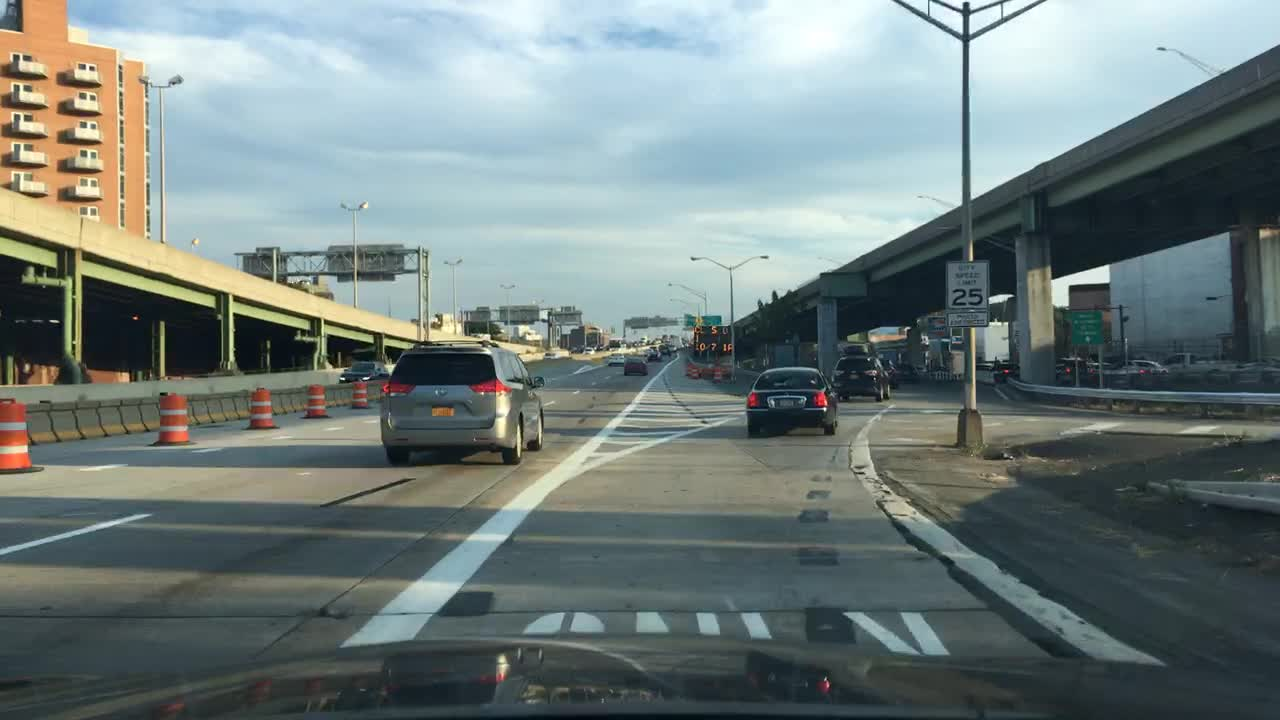car: (376, 336, 552, 469), (741, 364, 842, 441), (823, 354, 892, 402), (1161, 352, 1237, 379), (1110, 356, 1173, 385), (333, 356, 391, 387), (1051, 357, 1105, 385), (617, 354, 654, 380), (990, 356, 1019, 385), (876, 356, 900, 386), (896, 357, 918, 381), (641, 346, 665, 364), (652, 341, 673, 356), (605, 351, 624, 365), (540, 349, 560, 360), (915, 360, 931, 373), (581, 343, 594, 356), (666, 341, 679, 349)
traffic sign: (940, 258, 990, 326), (323, 241, 409, 280), (1065, 305, 1107, 350), (241, 249, 289, 286), (496, 301, 541, 325), (625, 314, 680, 330), (546, 304, 583, 327), (685, 311, 725, 327), (465, 299, 492, 322), (925, 314, 951, 333)
